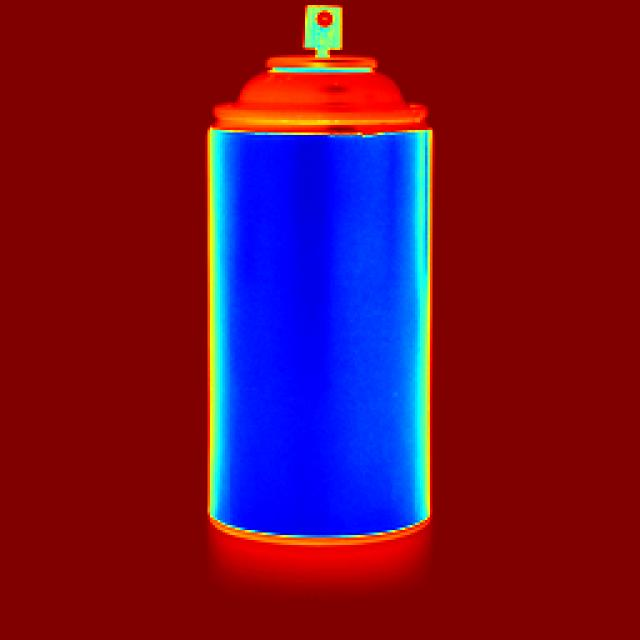Aerosol Cans: (202, 2, 451, 572)
